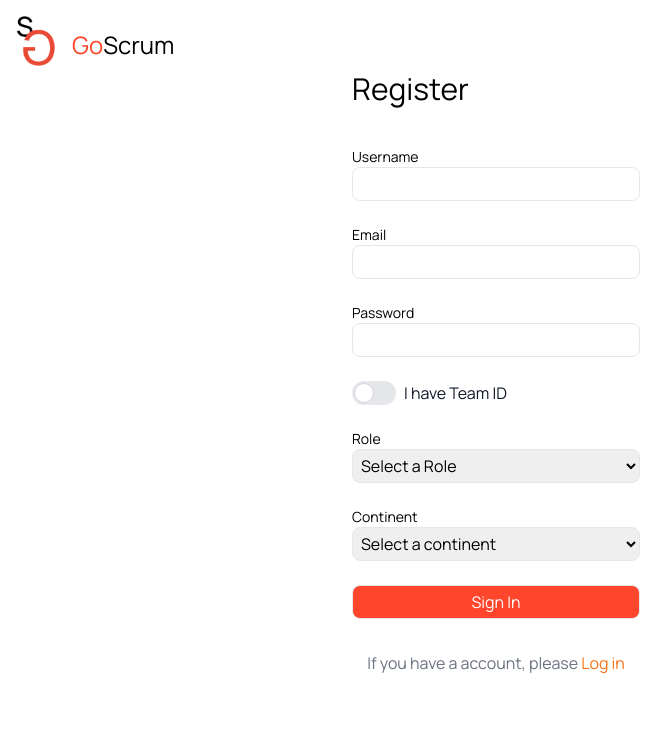
Test case: Register page › should render register page select fields
Check: the dropdown labelled "Role" is shown, box x1=352 y1=449 x2=640 y2=483
Select "America" in the dropdown labelled "Continent" at (496, 544), box x1=352 y1=527 x2=640 y2=561
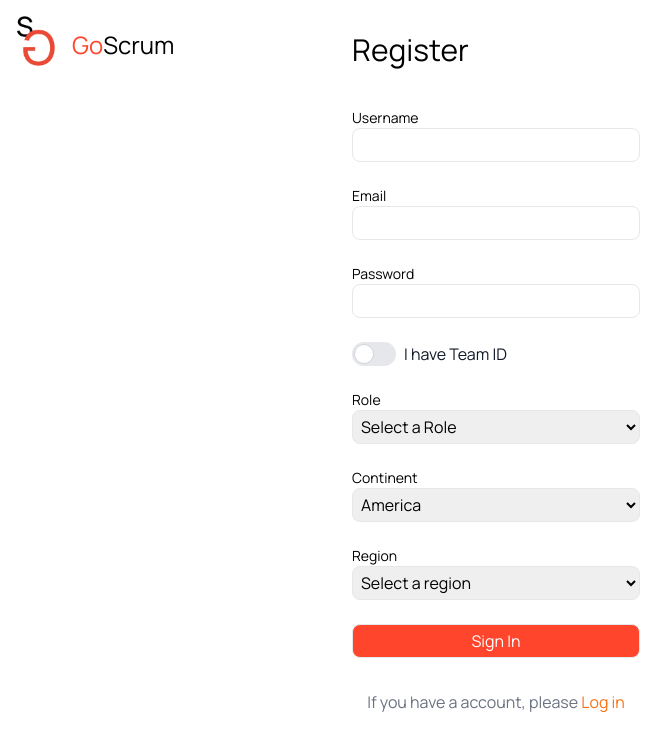
Check: the dropdown labelled "Region" is shown, box x1=352 y1=566 x2=640 y2=600
